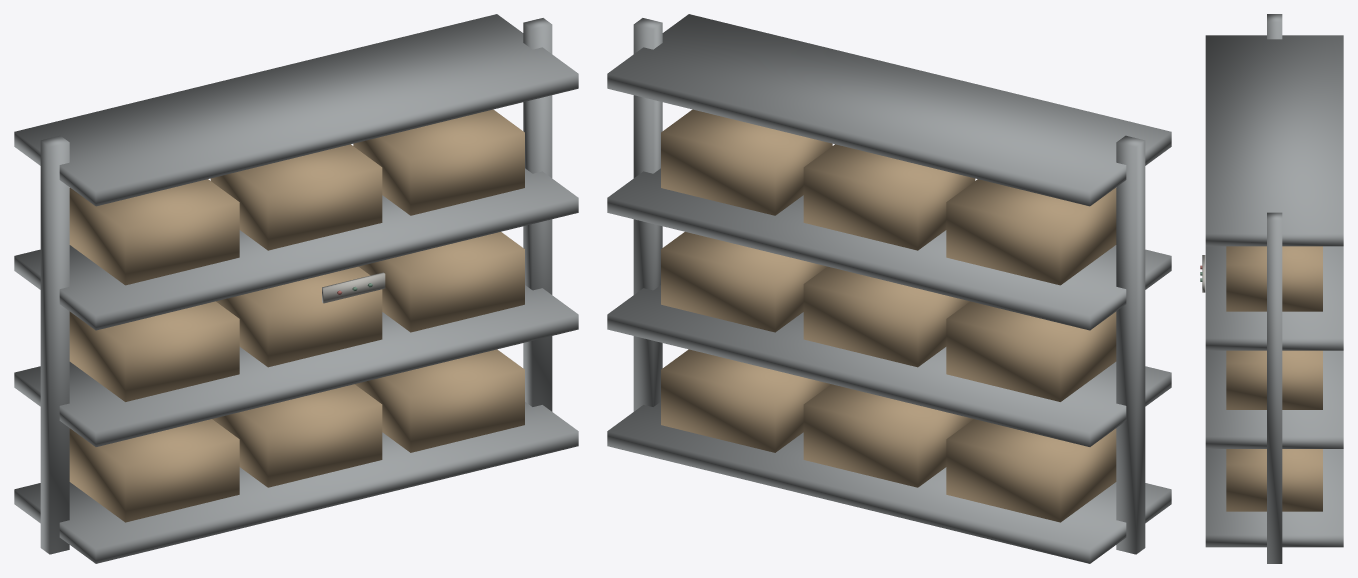
File: print_drying_rack__wide.glb
The picture shows the model from 3 angles, left to right: view 1: azimuth 30°, elevation 25°; view 2: azimuth 150°, elevation 25°; view 3: azimuth 270°, elevation 25°; orthographic projection. The views are drawn at different scales.
Visible parts, largest first — view 1: world; view 2: world; view 3: world.
Boxes of the visible parts, x1=… form: world: x1=14, y1=14, x2=578, y2=563; world: x1=607, y1=14, x2=1171, y2=563; world: x1=1200, y1=14, x2=1343, y2=563.
Bounding box in the file's own units: 2.84 × 2.2 × 0.831.
